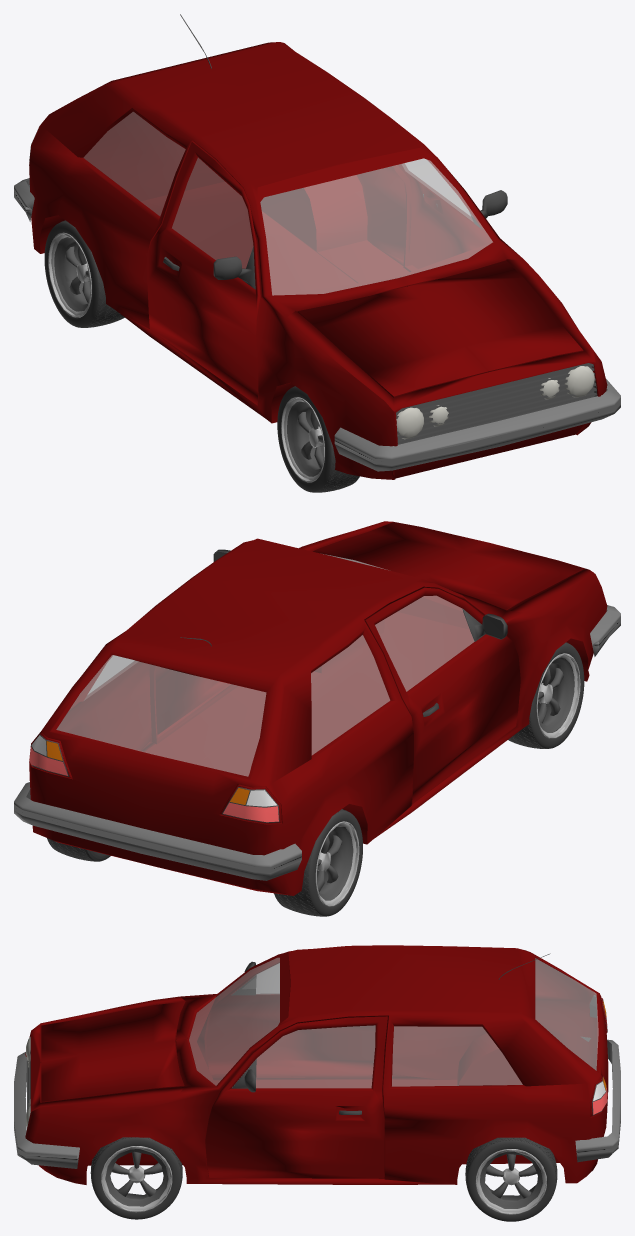
Rendered from golf2_teofels.glb.
The picture shows the model from 3 angles, top to bottom: view 1: azimuth 30°, elevation 25°; view 2: azimuth 150°, elevation 25°; view 3: azimuth 270°, elevation 25°; orthographic projection. The views are drawn at different scales.
Visible parts, largest first — view 1: Object_22, Object_21, Object_19, Object_12, Object_17, Object_3, Object_2, Object_24, Object_15; view 2: Object_22, Object_21, Object_19, Object_12, Object_3, Object_2, Object_25, Object_15, Object_26, Object_17; view 3: Object_22, Object_21, Object_3, Object_12, Object_19, Object_2, Object_15, Object_17.
Boxes of the visible parts, x1,y1,x2,y2 form: Object_22: (29,42,607,479); Object_21: (83,112,492,295); Object_19: (14,178,620,471); Object_12: (14,189,620,476); Object_17: (29,126,597,444); Object_3: (44,220,359,492); Object_2: (48,232,324,482); Object_24: (396,366,594,439); Object_15: (163,14,507,289); Object_22: (29,521,607,895); Object_21: (56,554,474,776); Object_19: (14,605,620,880); Object_12: (14,617,620,900); Object_3: (47,642,584,916); Object_2: (315,653,580,906); Object_25: (29,746,278,822); Object_15: (180,549,507,716); Object_26: (31,735,276,806); Object_17: (29,734,279,822); Object_22: (25,945,608,1184); Object_21: (189,957,598,1088); Object_3: (90,1137,557,1221); Object_12: (14,1116,620,1208); Object_19: (14,1037,620,1168); Object_2: (101,1146,546,1214); Object_15: (231,953,550,1114); Object_17: (27,995,607,1128).
Size of the model in its own units: 1.83 by 1.57 by 3.99.
